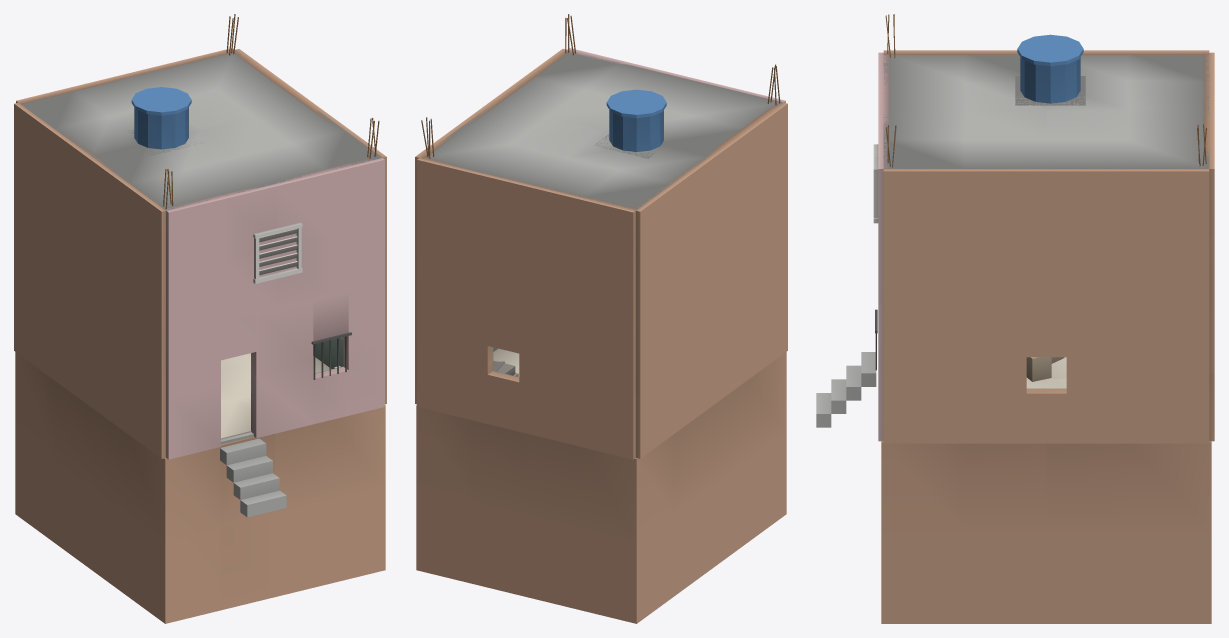
Rendered from barraco_4.glb.
3 renders of one model, left to right at view 1: azimuth 30°, elevation 25°; view 2: azimuth 150°, elevation 25°; view 3: azimuth 270°, elevation 25°, orthographic. The views are drawn at different scales.
Visible parts, largest first — view 1: ext, longe, detalhe, dentro; view 2: ext, longe, detalhe; view 3: ext, longe, detalhe, dentro.
Boxes of the visible parts, <box> form: ext: <box>14,48,386,459</box>; longe: <box>15,51,385,623</box>; detalhe: <box>128,14,379,517</box>; dentro: <box>221,337,343,444</box>; ext: <box>415,48,787,459</box>; longe: <box>416,51,786,623</box>; detalhe: <box>421,14,780,158</box>; ext: <box>878,50,1214,443</box>; longe: <box>881,53,1211,623</box>; detalhe: <box>816,14,1206,427</box>; dentro: <box>1026,357,1066,388</box>.
Size of what is drawn, in the model's own units: 5.72 by 10.93 by 7.96.
